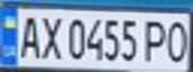0: (63, 15, 87, 61)
4: (84, 15, 106, 62)
5: (118, 16, 142, 62), (103, 16, 124, 62)
A: (15, 11, 42, 60)
O: (163, 17, 193, 64)
P: (139, 16, 172, 63)
X: (36, 12, 63, 61)
